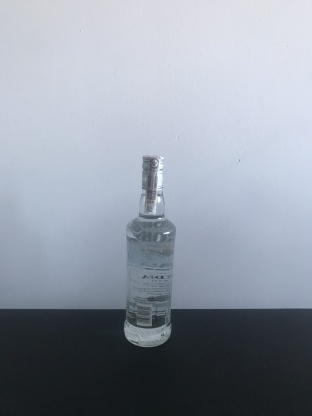nakretka: (139, 149, 167, 192)
